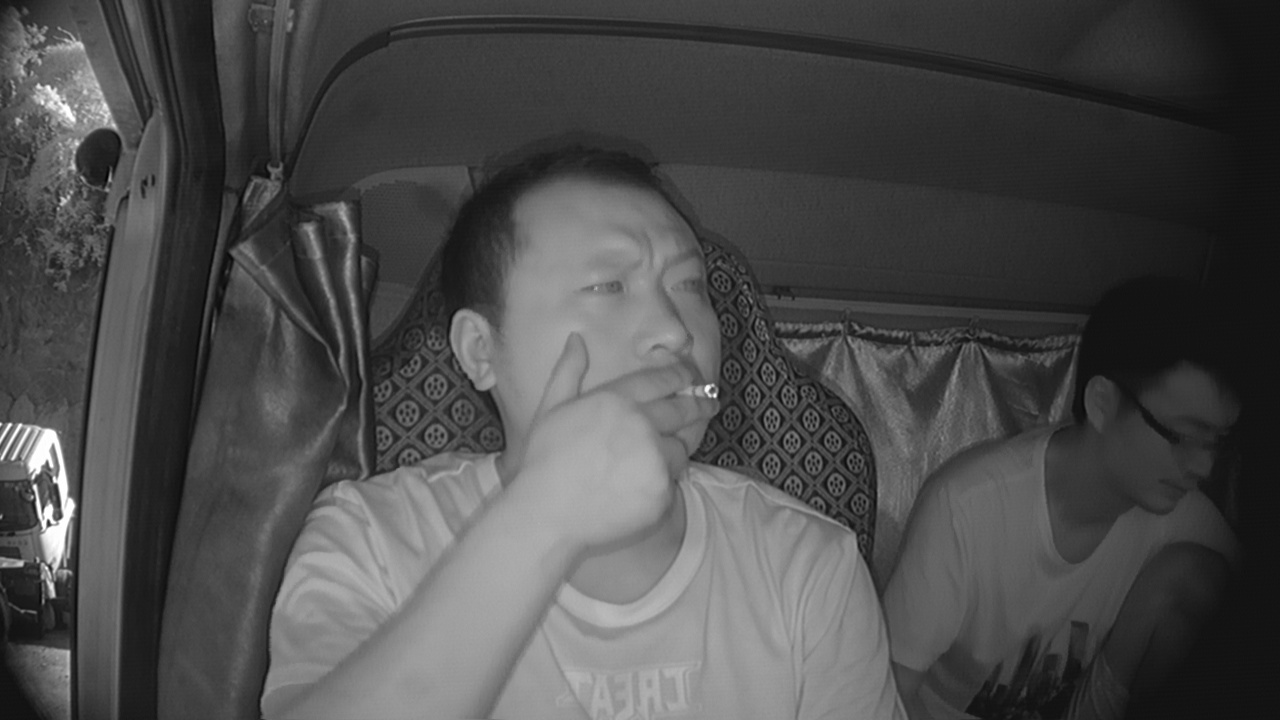hand: (564, 342, 705, 515)
